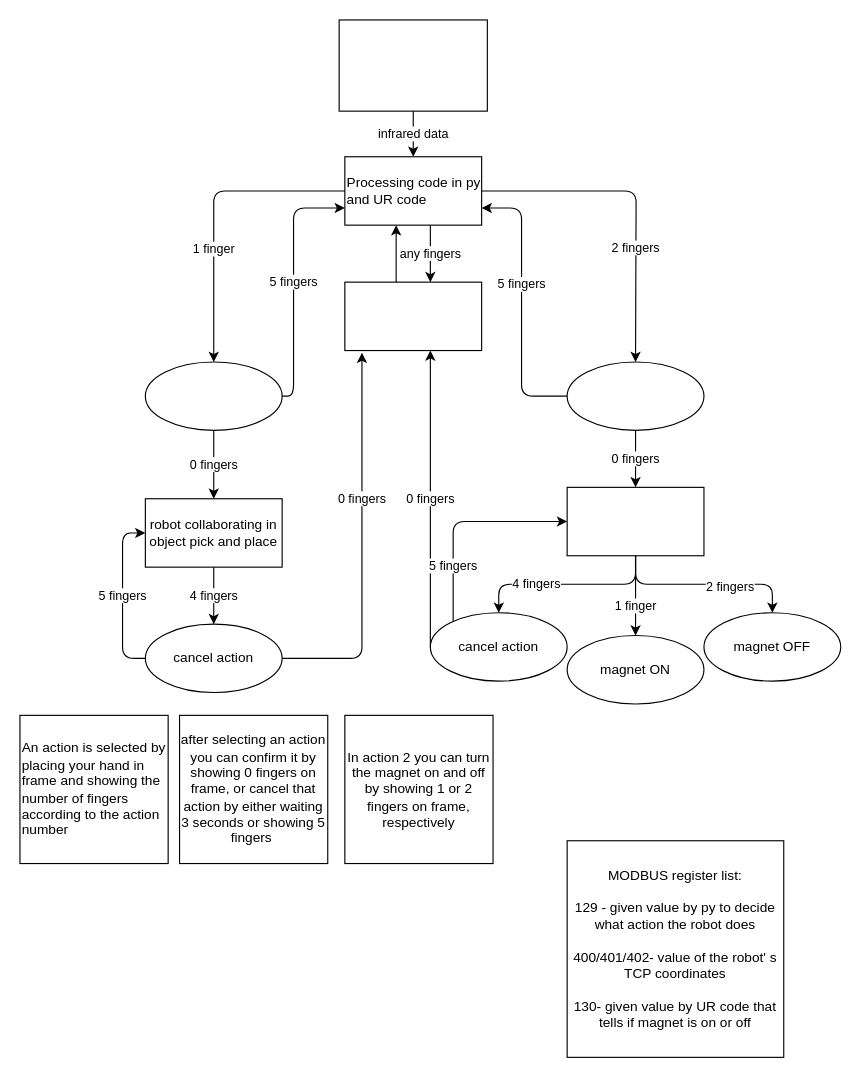
Some shapes in this 861 by 1077 pixel diagram are drawn without their labels. Here are the shapes that lost their labels. From the top down, the centre of each, then its label:
At point 412,65: "LeapMotion sensor (SDK version: Orion 3.2.1)".
At point 413,316: "action 0(Hanoi)".
At point 213,395: "select action 1".
At point 635,395: "select action 2".
At point 635,521: "control robot by hand movement".
